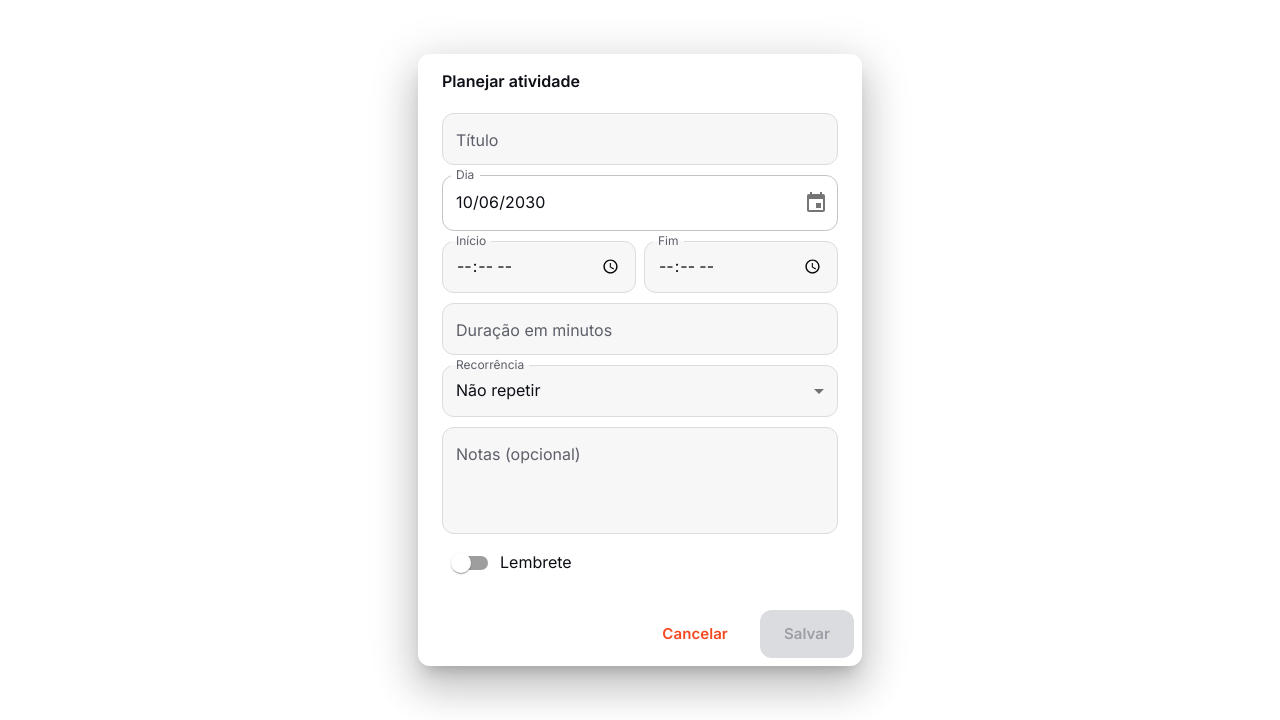
Test: PlanEntryDialog › keeps Salvar disabled until every required field is filled, then enables it
This screenshot has width=1280, height=720.
Expected: the button "Salvar" is disabled, [760,610,854,658]
Type "Ler O Hobbit" into the field labelled "Título".
click(640, 139); type("Ler O Hobbit")  # box [442,113,838,164]
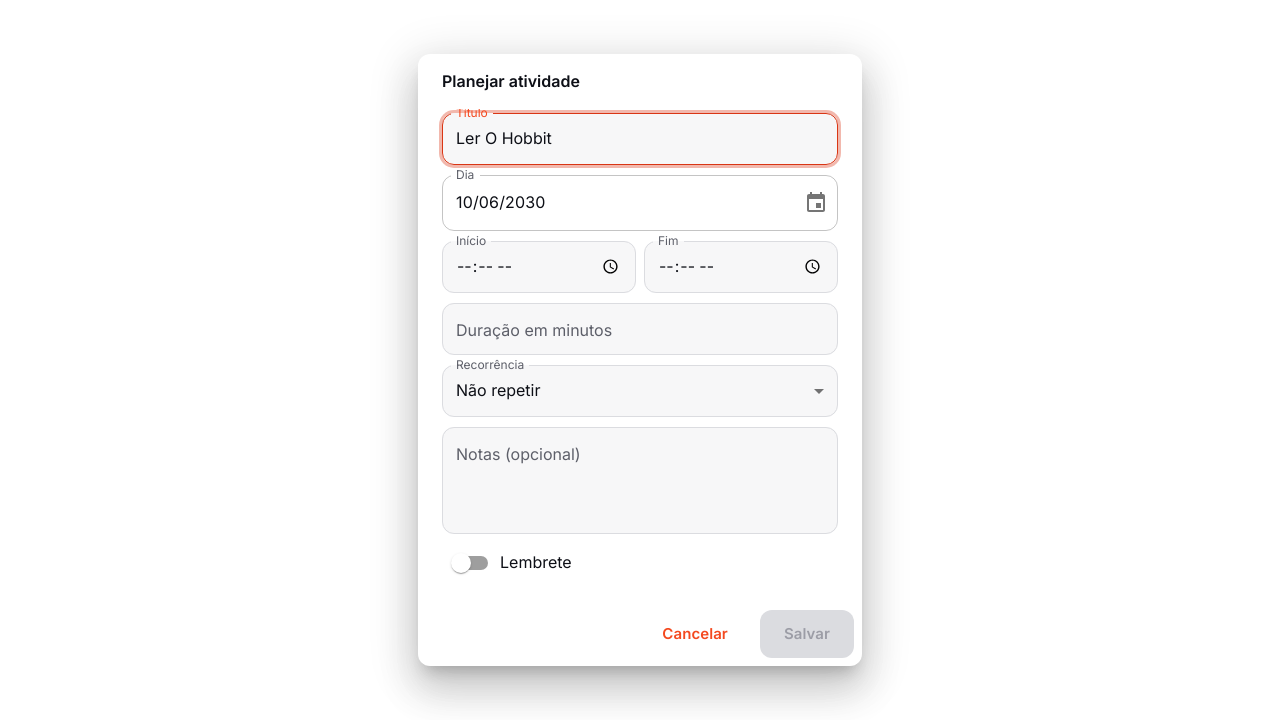
Type "19:00" into the time field labelled "Início".
click(539, 267); type("19:00")  # box [442,241,636,292]
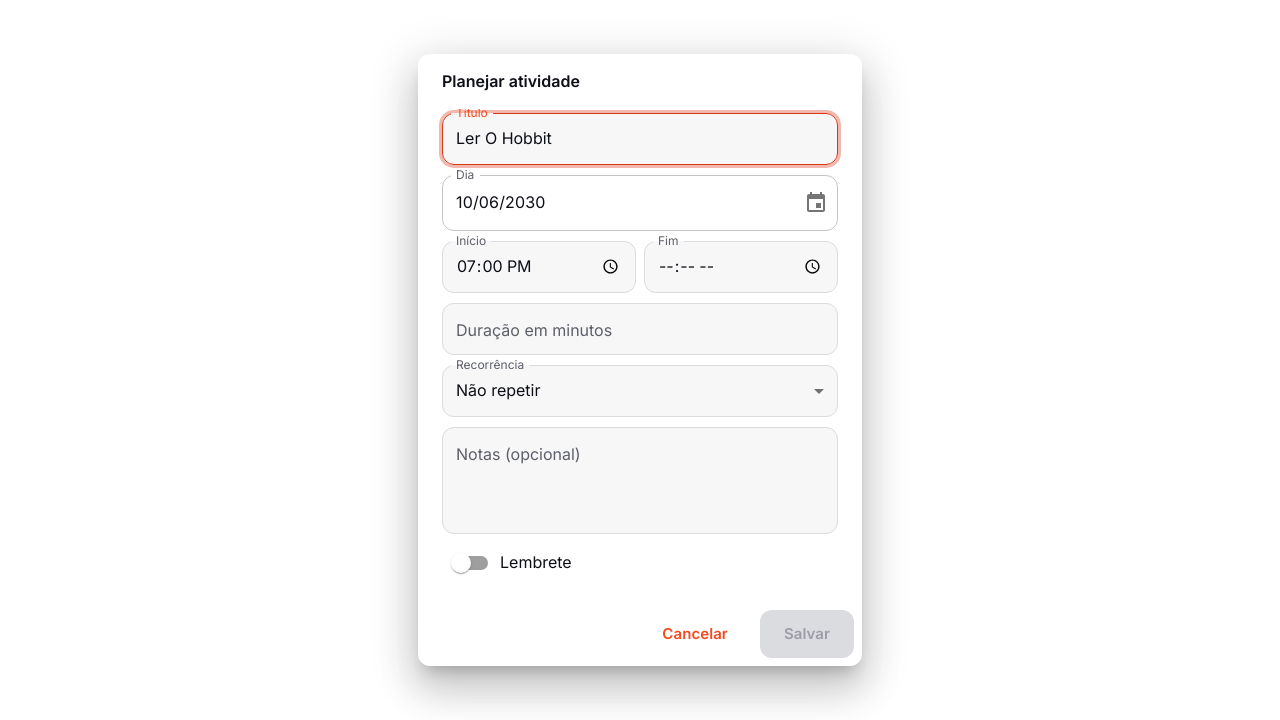
Type "20:00" into the time field labelled "Fim".
click(741, 267); type("20:00")  # box [644,241,838,292]
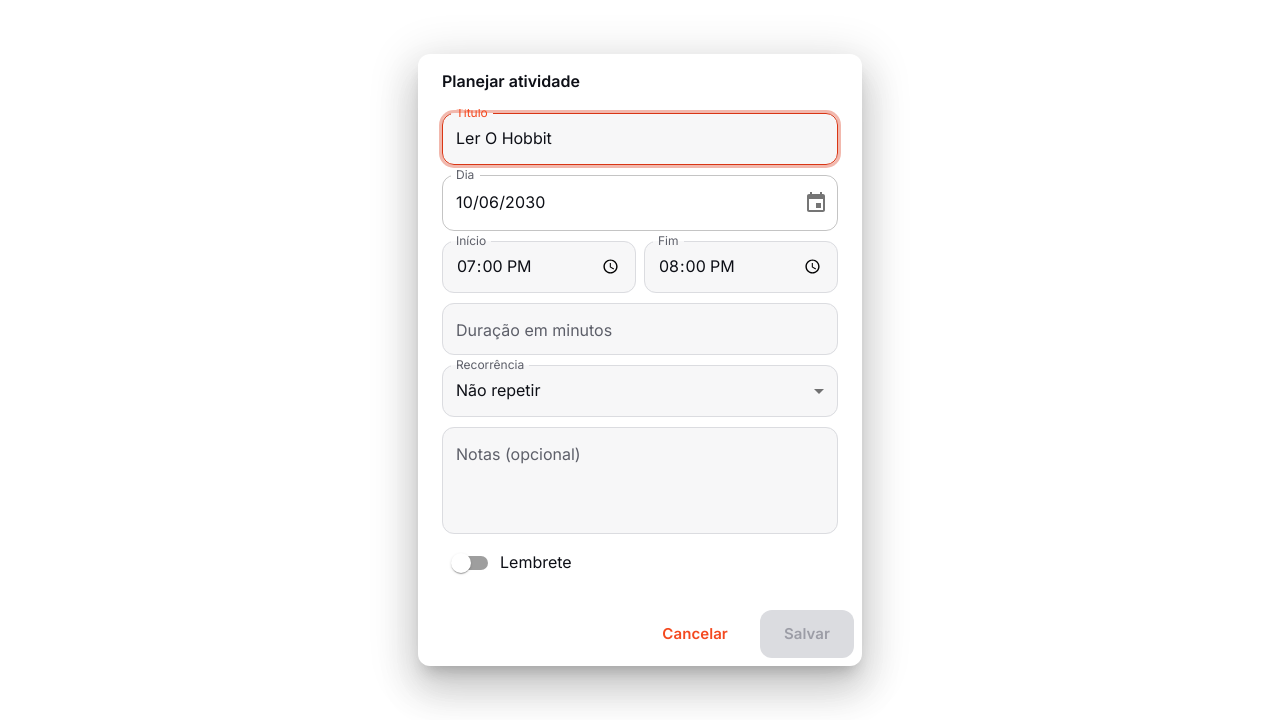
Type "60" into the number field labelled "Duração em minutos".
click(640, 329); type("60")  # box [442,303,838,354]
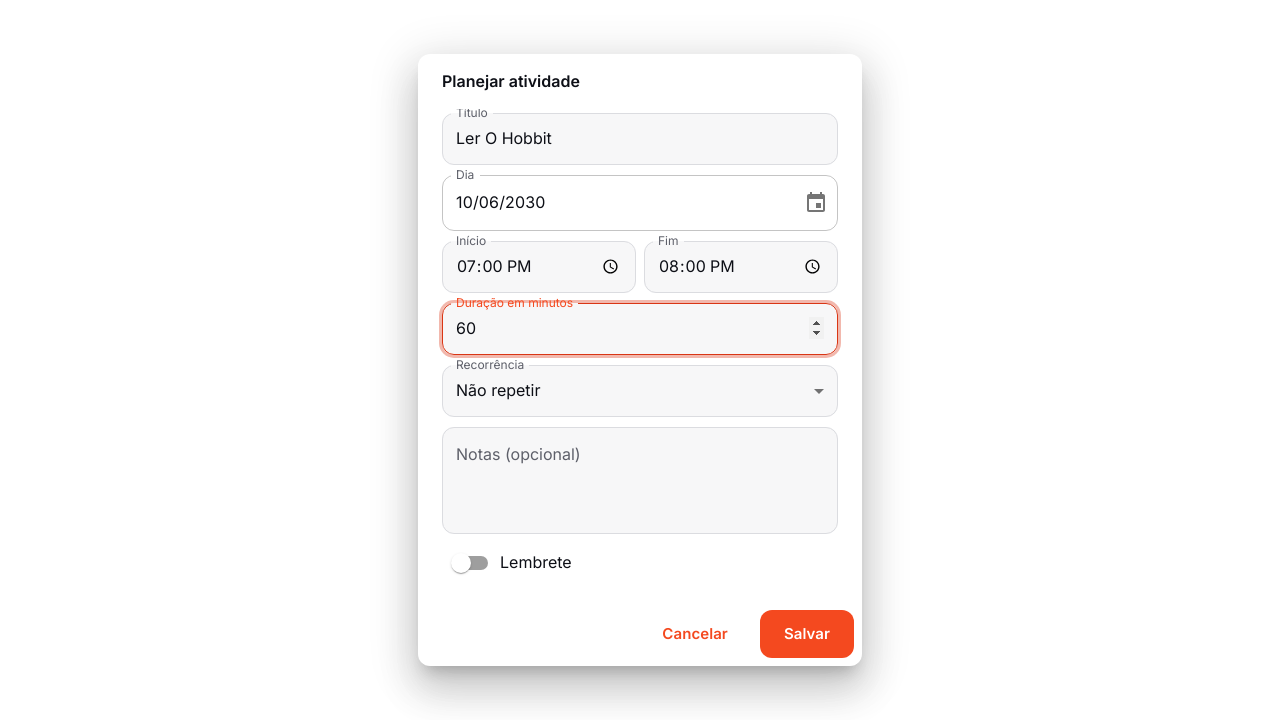
Result: the button "Salvar" is enabled at [760,610,854,658]
